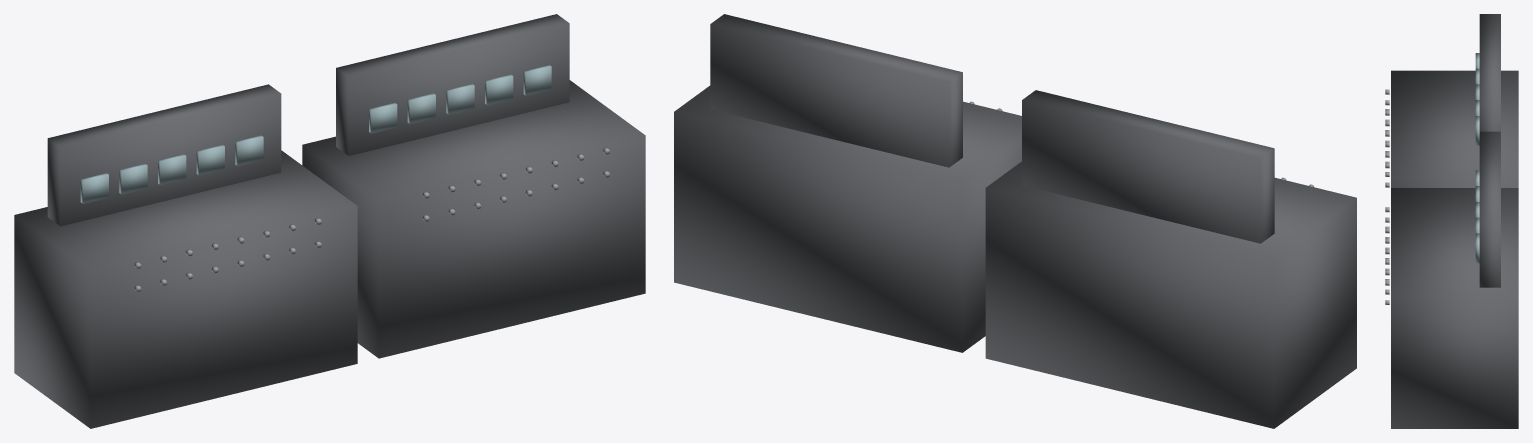
Rendered from dispatch_console__cluster.glb.
3 renders of one model, left to right at view 1: azimuth 30°, elevation 25°; view 2: azimuth 150°, elevation 25°; view 3: azimuth 270°, elevation 25°, orthographic. The views are drawn at different scales.
Visible parts, largest first — view 1: world; view 2: world; view 3: world.
Part boxes in pixels (left/top/right/bottom): world: left=14, top=14, right=645, bottom=428; world: left=674, top=14, right=1356, bottom=428; world: left=1385, top=14, right=1518, bottom=428.
Size of the model in its own units: 3.02 by 1.23 by 0.7525.
